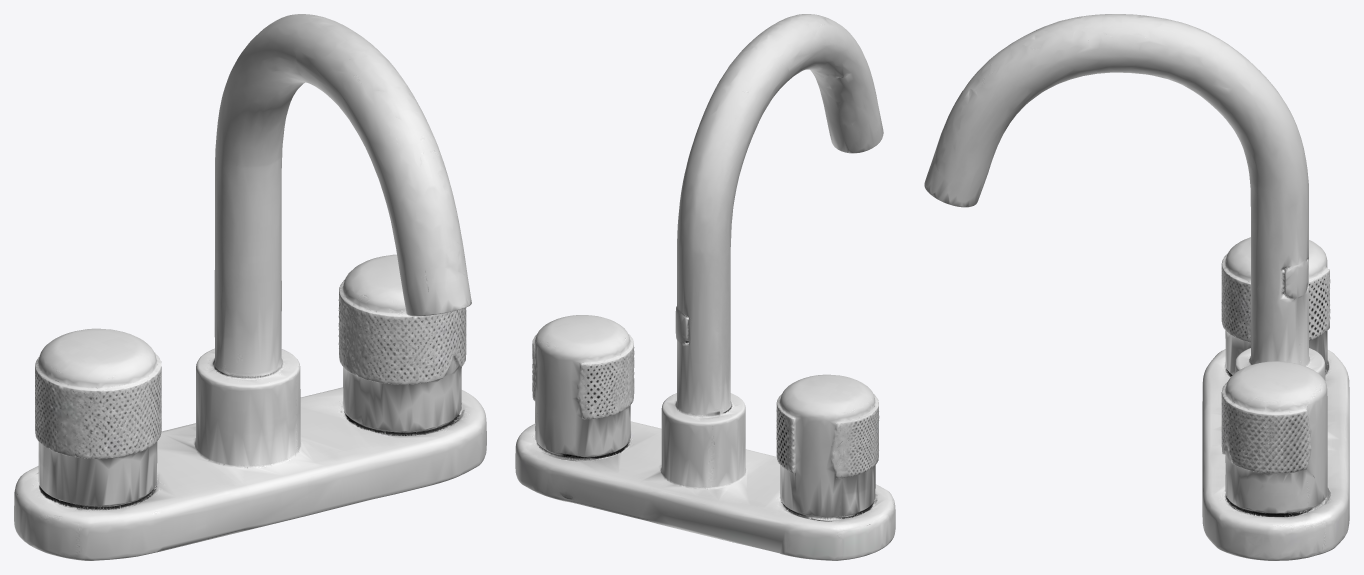
The model's file is faucet.glb.
3 views of the same model, side by side, from view 1: azimuth 30°, elevation 25°; view 2: azimuth 150°, elevation 25°; view 3: azimuth 270°, elevation 25° (orthographic). The views are drawn at different scales.
Parts seen in each view (by area): view 1: Mesh_0; view 2: Mesh_0; view 3: Mesh_0.
Boxes of the visible parts, left/top/right/bottom form: Mesh_0: left=14, top=14, right=486, bottom=560; Mesh_0: left=515, top=14, right=895, bottom=560; Mesh_0: left=924, top=14, right=1349, bottom=560.
Bounding box in the file's own units: 1.71 × 1.9 × 1.62.
Materials: 1 (1 with a texture image).
